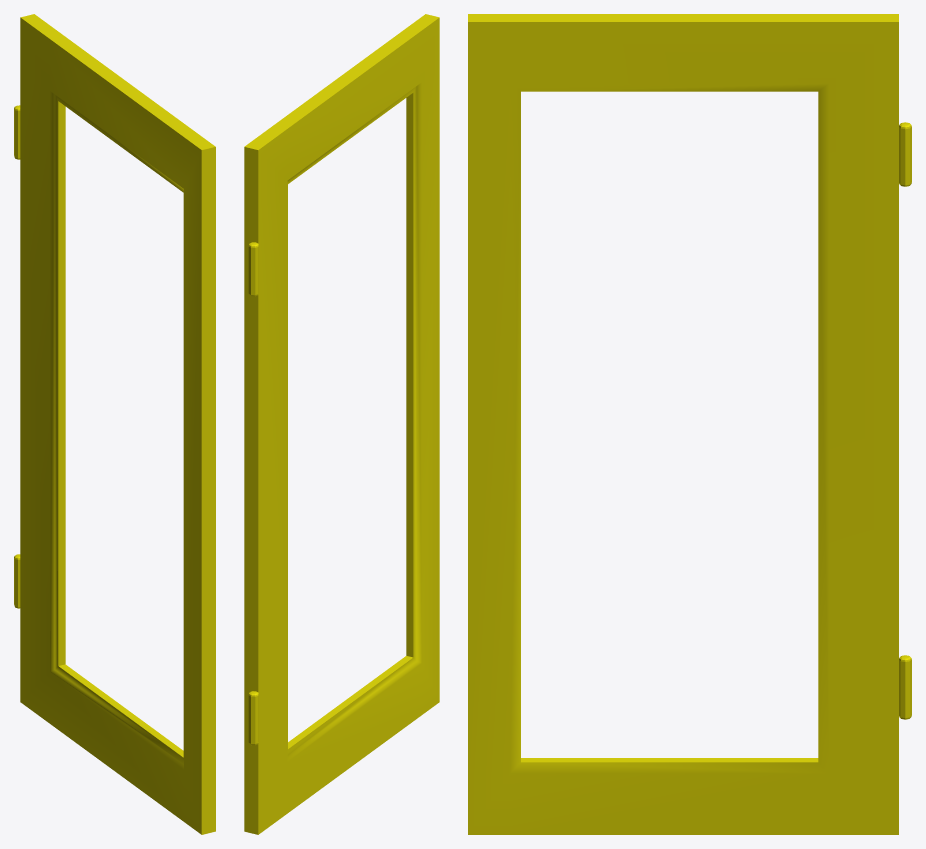
The model's file is Window_Left.fbx.
3 views of the same model, side by side, from view 1: azimuth 30°, elevation 25°; view 2: azimuth 150°, elevation 25°; view 3: azimuth 270°, elevation 25° (orthographic). The views are drawn at different scales.
Visible parts, largest first — view 1: Window_Left; view 2: Window_Left; view 3: Window_Left.
Part boxes in pixels (x1,y1,x2,y2): Window_Left: (14,14,215,834); Window_Left: (244,14,439,834); Window_Left: (468,14,911,834).
Size of the model in its own units: 5.14 by 198 by 97.8.
